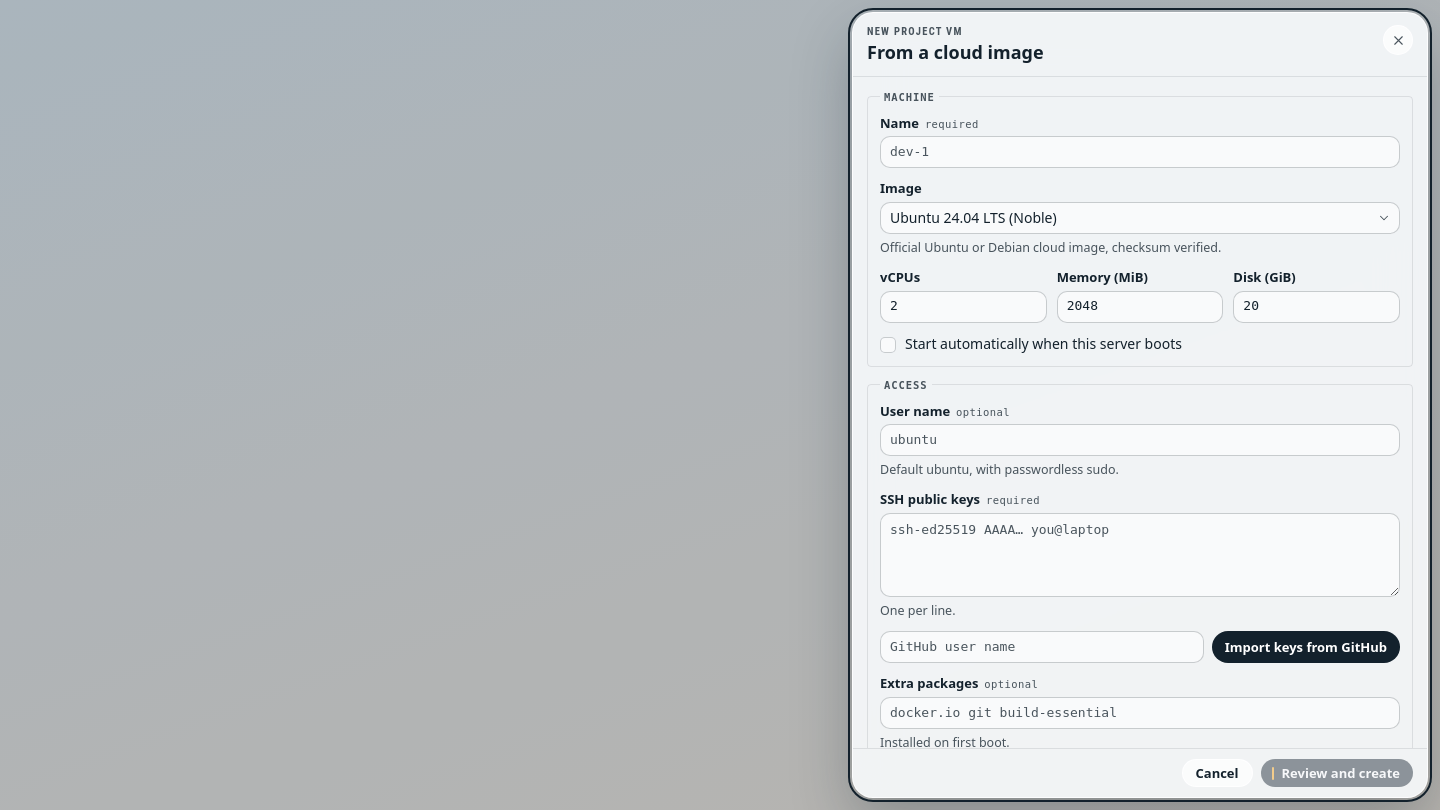
Scenario: a VM from a cloud image › says why a GitHub import did not work
Type "nobody" into the field labelled "GitHub user" at (1042, 647), box [880, 631, 1204, 663]
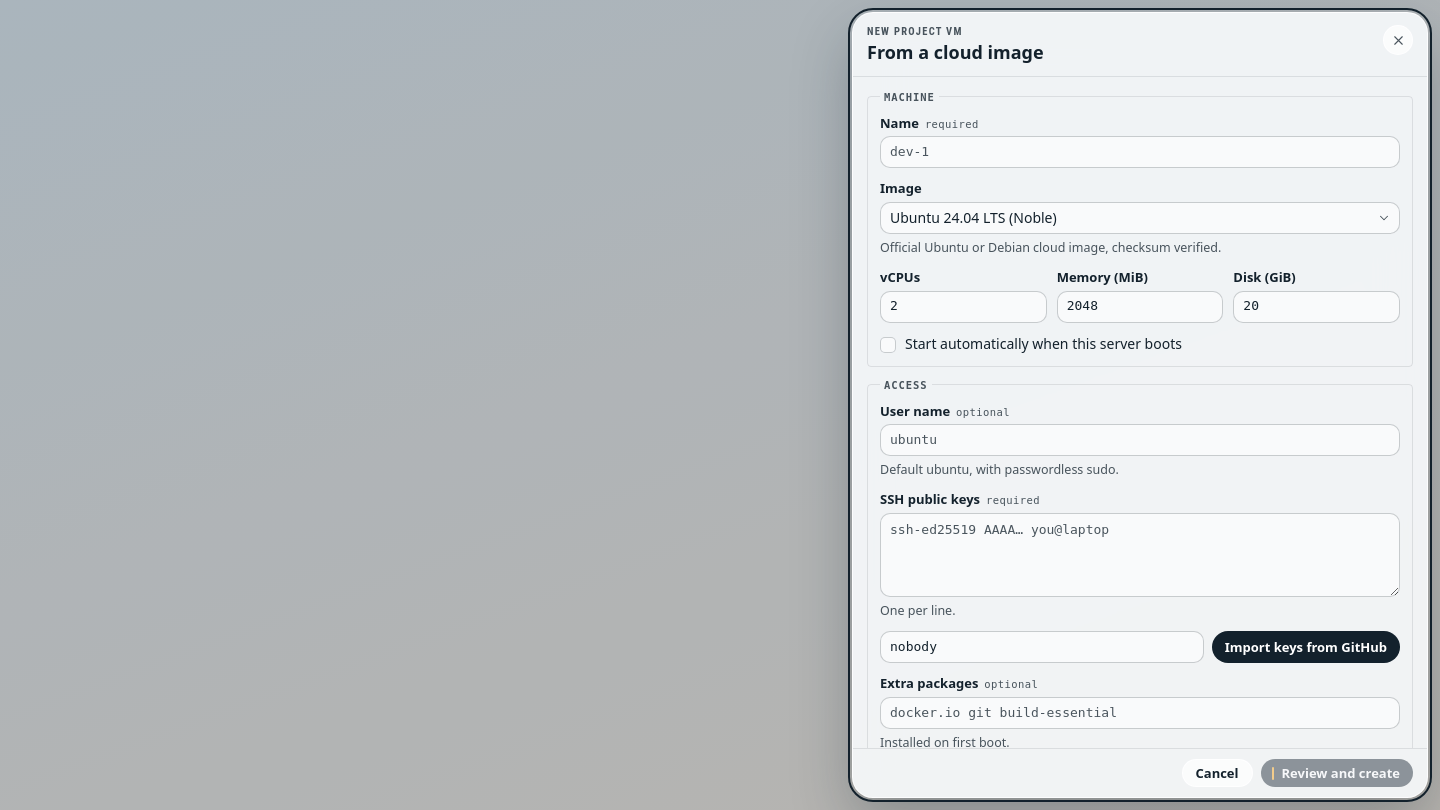
Click the button "Import keys from GitHub" at (1306, 647), box [1212, 631, 1400, 663]
(page scrolled)
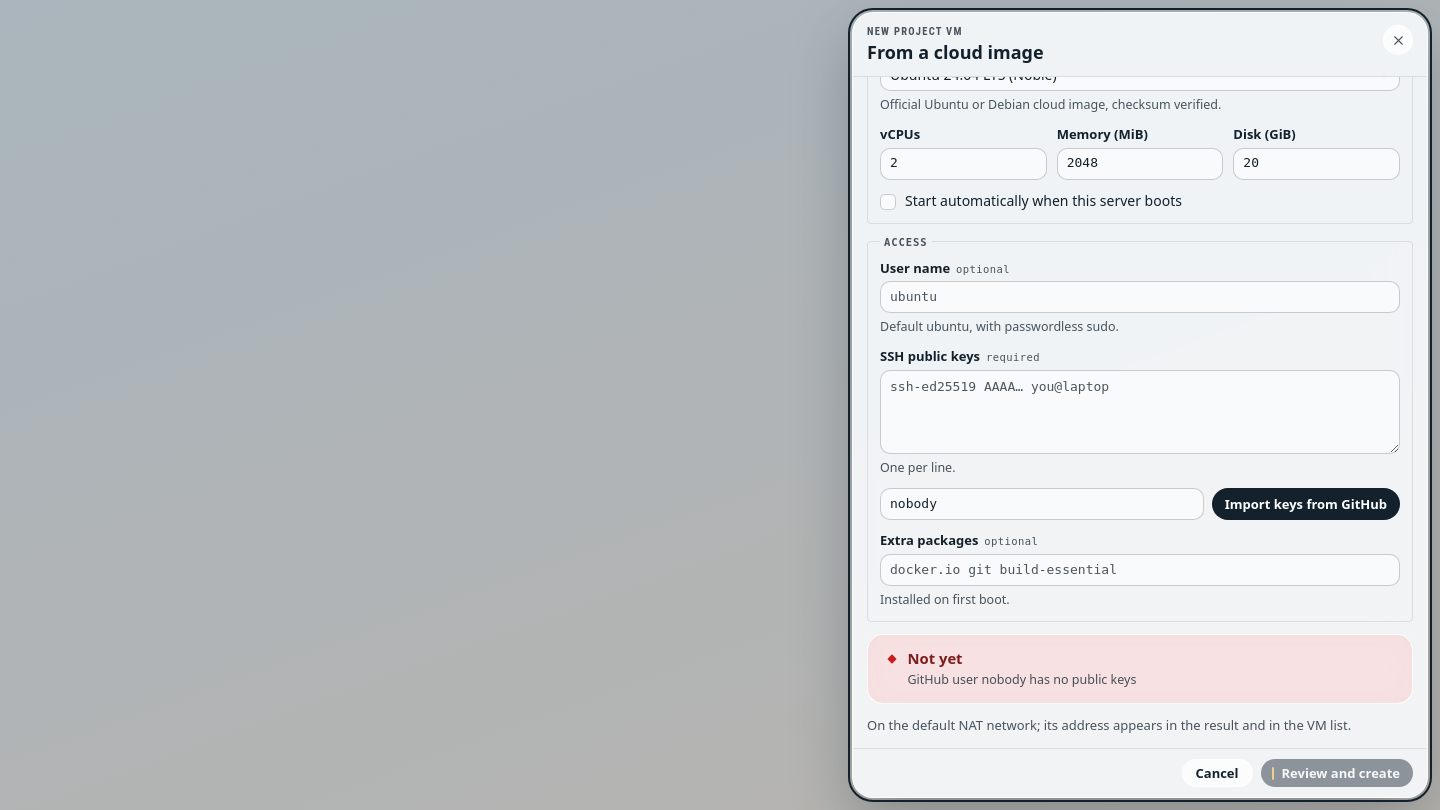
expect the text "GitHub user nobody has no public keys" is shown: met, box [908, 671, 1136, 688]
